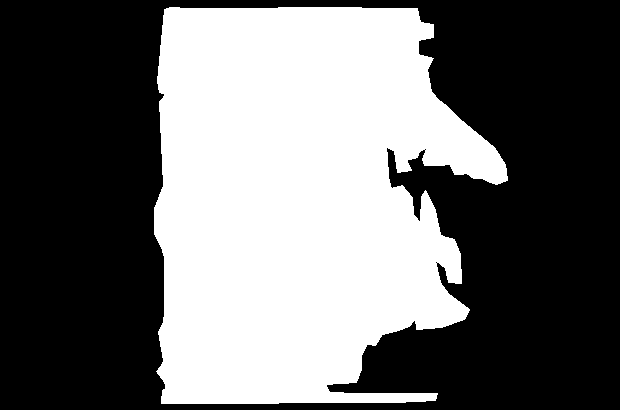type2: (142, 4, 509, 406)
